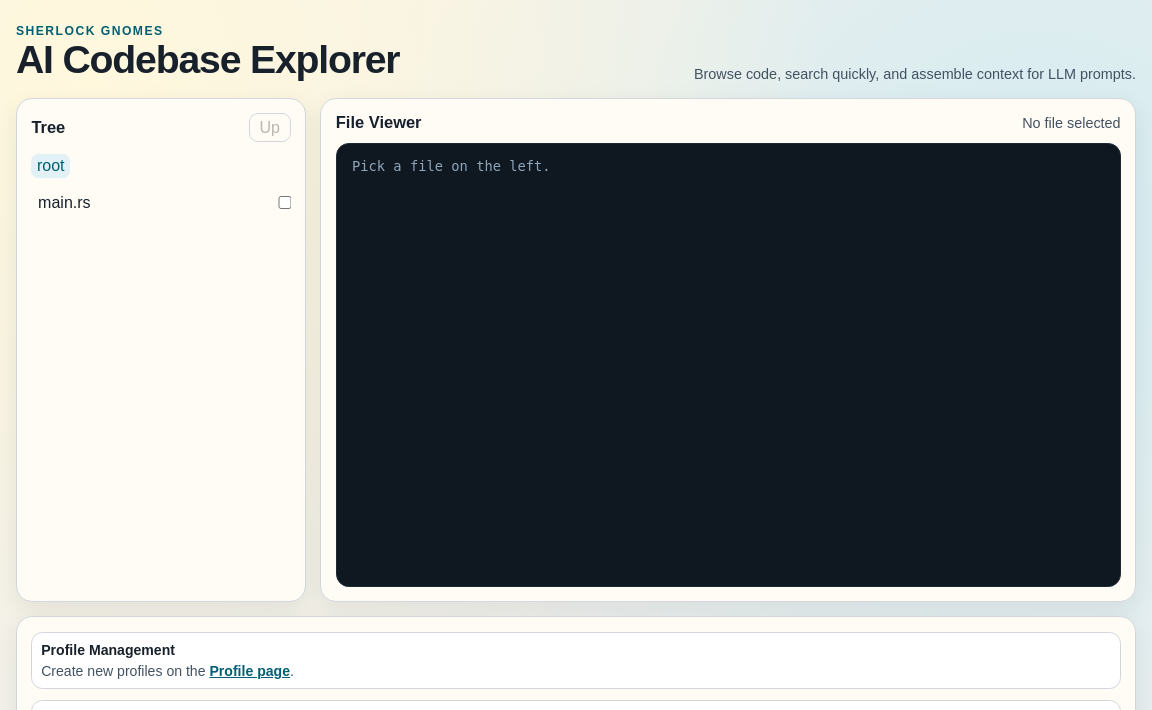
Test: Explorer › opens a file and increments selected context count
Click the button "main.rs" at (149, 203), box [31,189,266,217]
(page scrolled)
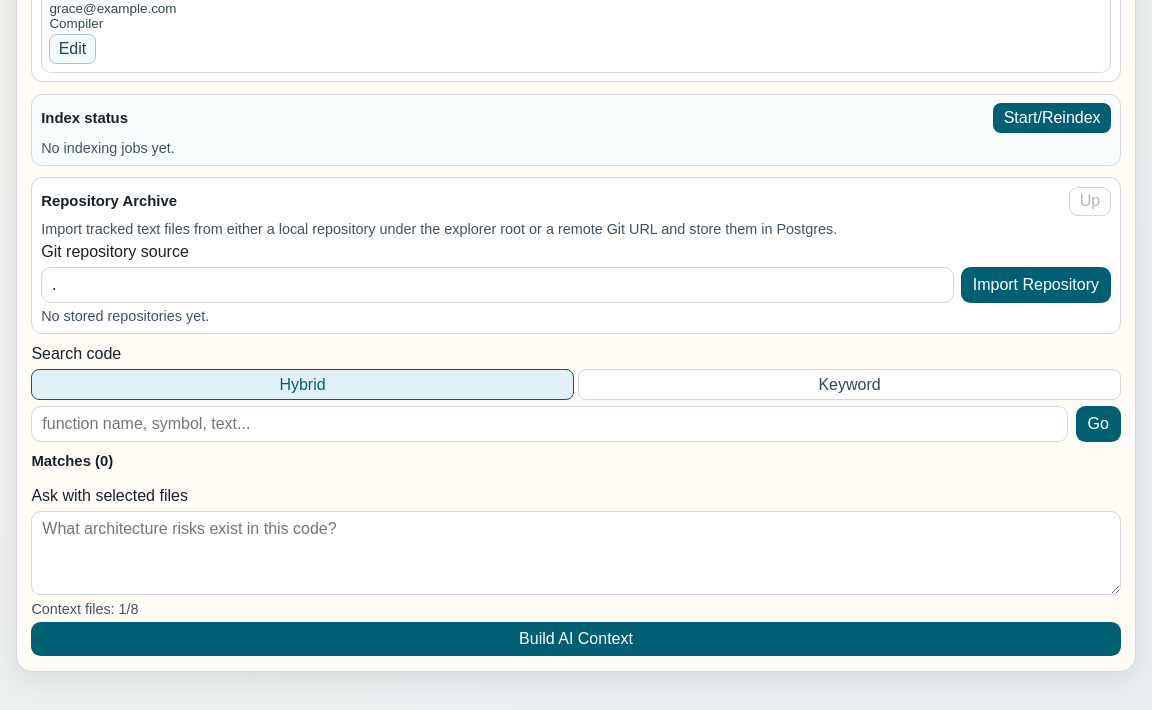
Check: the text "Context files: 1/8" is shown, box [31,601,139,617]
